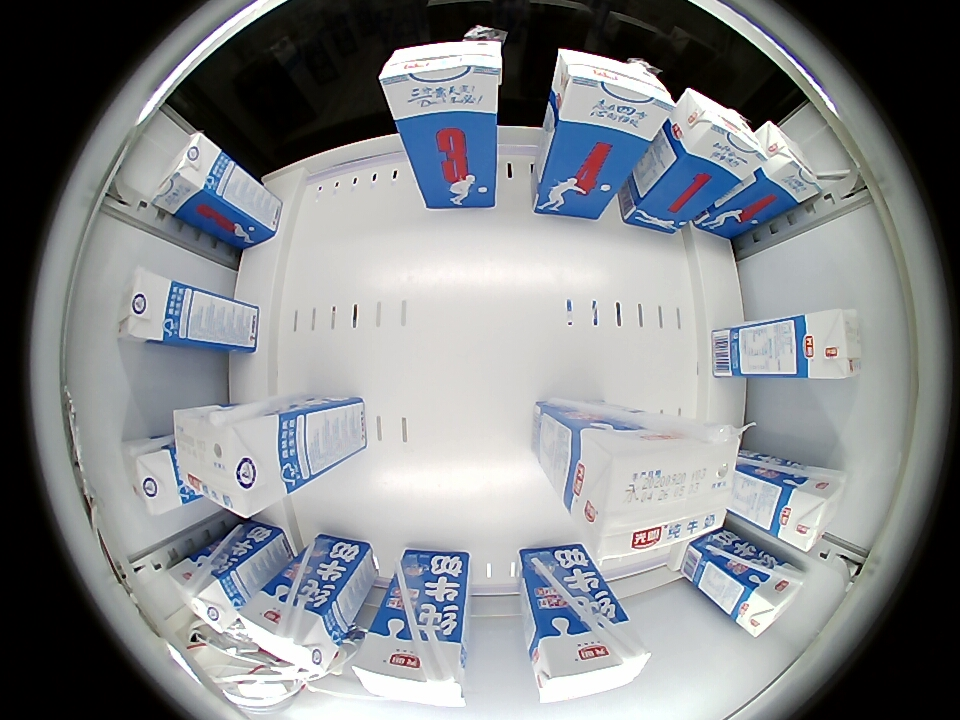niunai: (571, 423, 740, 559), (173, 405, 285, 519), (551, 48, 675, 142), (378, 36, 503, 124), (529, 623, 650, 705), (354, 622, 469, 708), (241, 588, 343, 679), (670, 87, 767, 180), (769, 465, 846, 552), (152, 132, 226, 219), (730, 556, 807, 638), (171, 555, 244, 636), (754, 121, 820, 207), (121, 437, 182, 517), (794, 309, 861, 379), (118, 267, 177, 345)
